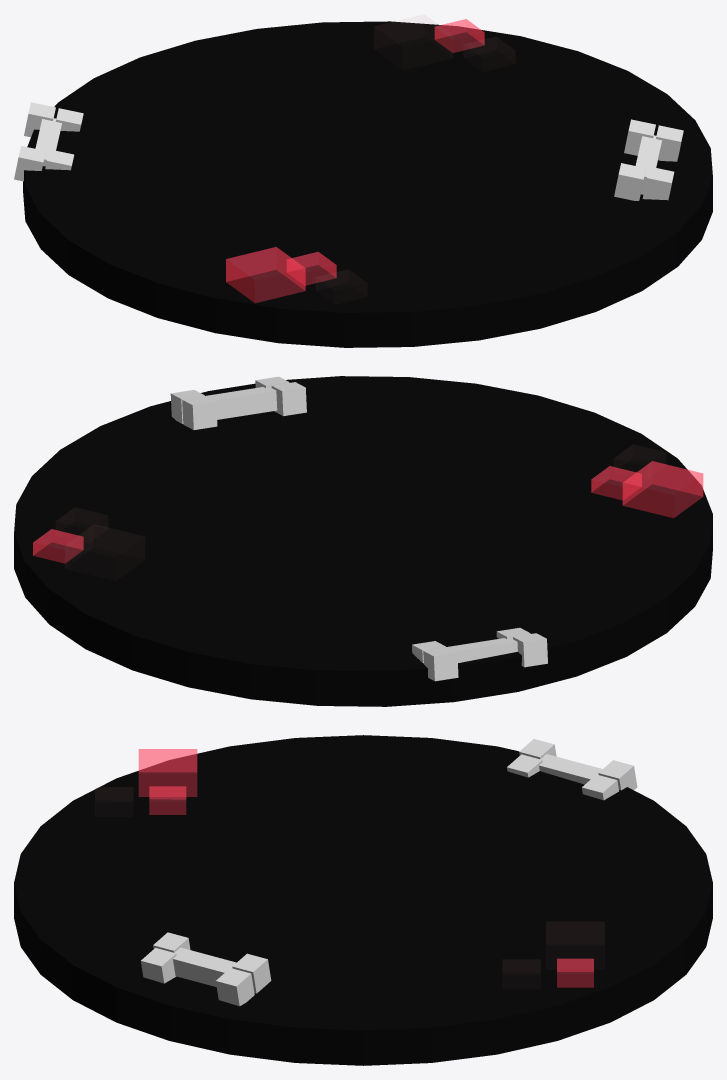
File: Plane_Exploserd.fbx
3 views of the same model, one above another, from view 1: azimuth 30°, elevation 25°; view 2: azimuth 150°, elevation 25°; view 3: azimuth 270°, elevation 25° (orthographic).
Parts seen in each view (by area): view 1: Cylinder; view 2: Cylinder; view 3: Cylinder.
Part boxes in pixels (<box>): Cylinder: <box>14,19,712,347</box>; Cylinder: <box>14,376,712,706</box>; Cylinder: <box>14,735,712,1065</box>.
Size of the model in its own units: 405 by 41.77 by 405.
